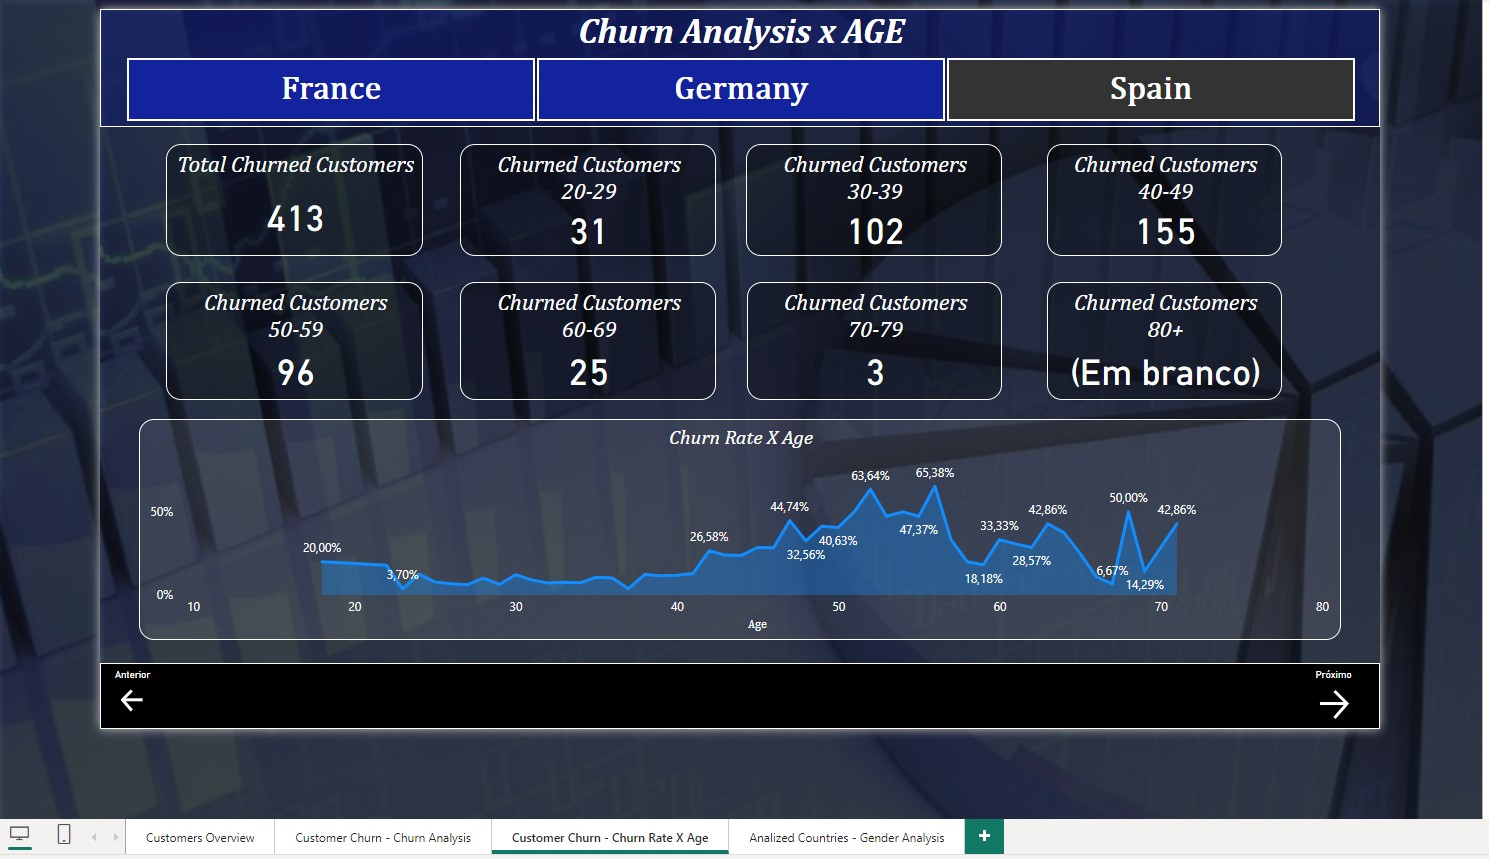

Layout of this report page (visuals, bound fields, positions):
{"tool":"powerbi","page":{"name":" Customer Churn - Churn Rate X Age","canvas":[1280,720],"ordinal":2},"visuals":[{"type":"shape","box":[0,653.6,1280,66.4],"z":0},{"type":"slicer","title":"Churn Analysis x AGE","fields":{"Values":["Customer Churn Classification c.Geography"]},"box":[0,0,1280,117.9],"z":1000},{"type":"actionButton","title":"Próximo","box":[1196.4,660,74.5,54.5],"z":2000},{"type":"card","title":"Churned Customers 40-49","fields":{"Values":["Customer Churn.CountChurnedCustomers"]},"box":[947.4,134.7,234.7,112.6],"z":3000},{"type":"areaChart","title":"Churn Rate X Age","fields":{"Category":["Customer Churn.Age"],"Y":["Customer Churn.ChurnRate"]},"box":[38.8,409.7,1202.3,221],"z":4000},{"type":"actionButton","title":"Anterior","box":[6.4,660,52.7,47.3],"z":5000},{"type":"card","title":"Churned Customers 20-29","fields":{"Values":["Customer Churn.CountChurnedCustomers"]},"box":[360,134.7,255.8,112.6],"z":6000},{"type":"card","title":"Churned Customers 30-39","fields":{"Values":["Customer Churn.CountChurnedCustomers"]},"box":[646.3,134.7,255.8,112.6],"z":7000},{"type":"card","title":"Churned Customers 50-59","fields":{"Values":["Customer Churn.CountChurnedCustomers"]},"box":[66.3,272.6,256.8,117.9],"z":8000},{"type":"card","title":"Churned Customers 60-69","fields":{"Values":["Customer Churn.CountChurnedCustomers"]},"box":[360,272.6,255.8,117.9],"z":9000},{"type":"card","title":"Churned Customers 70-79","fields":{"Values":["Customer Churn.CountChurnedCustomers"]},"box":[647.4,272.6,254.7,117.9],"z":10000},{"type":"card","title":"Churned Customers 80+","fields":{"Values":["Customer Churn.CountChurnedCustomers"]},"box":[947.4,272.6,234.7,117.9],"z":11000},{"type":"card","title":"Total Churned Customers","fields":{"Values":["Customer Churn.CountChurnedCustomers"]},"box":[66.3,134.7,256.8,112.6],"z":12000}]}

Visuals, with their boxes on the page's 1280x720 design canvas (x1, y1, x2, y2). These are canvas units, not pixel positions in the 1489x859 screenshot, which may show the page scaled, cropped or inside an application window:
shape: {"left": 0, "top": 654, "right": 1280, "bottom": 720}
"Churn Analysis x AGE" slicer: {"left": 0, "top": 0, "right": 1280, "bottom": 118}
"Próximo" actionButton: {"left": 1196, "top": 660, "right": 1271, "bottom": 714}
"Churned Customers 40-49" card: {"left": 947, "top": 135, "right": 1182, "bottom": 247}
"Churn Rate X Age" areaChart: {"left": 39, "top": 410, "right": 1241, "bottom": 631}
"Anterior" actionButton: {"left": 6, "top": 660, "right": 59, "bottom": 707}
"Churned Customers 20-29" card: {"left": 360, "top": 135, "right": 616, "bottom": 247}
"Churned Customers 30-39" card: {"left": 646, "top": 135, "right": 902, "bottom": 247}
"Churned Customers 50-59" card: {"left": 66, "top": 273, "right": 323, "bottom": 390}
"Churned Customers 60-69" card: {"left": 360, "top": 273, "right": 616, "bottom": 390}
"Churned Customers 70-79" card: {"left": 647, "top": 273, "right": 902, "bottom": 390}
"Churned Customers 80+" card: {"left": 947, "top": 273, "right": 1182, "bottom": 390}
"Total Churned Customers" card: {"left": 66, "top": 135, "right": 323, "bottom": 247}
